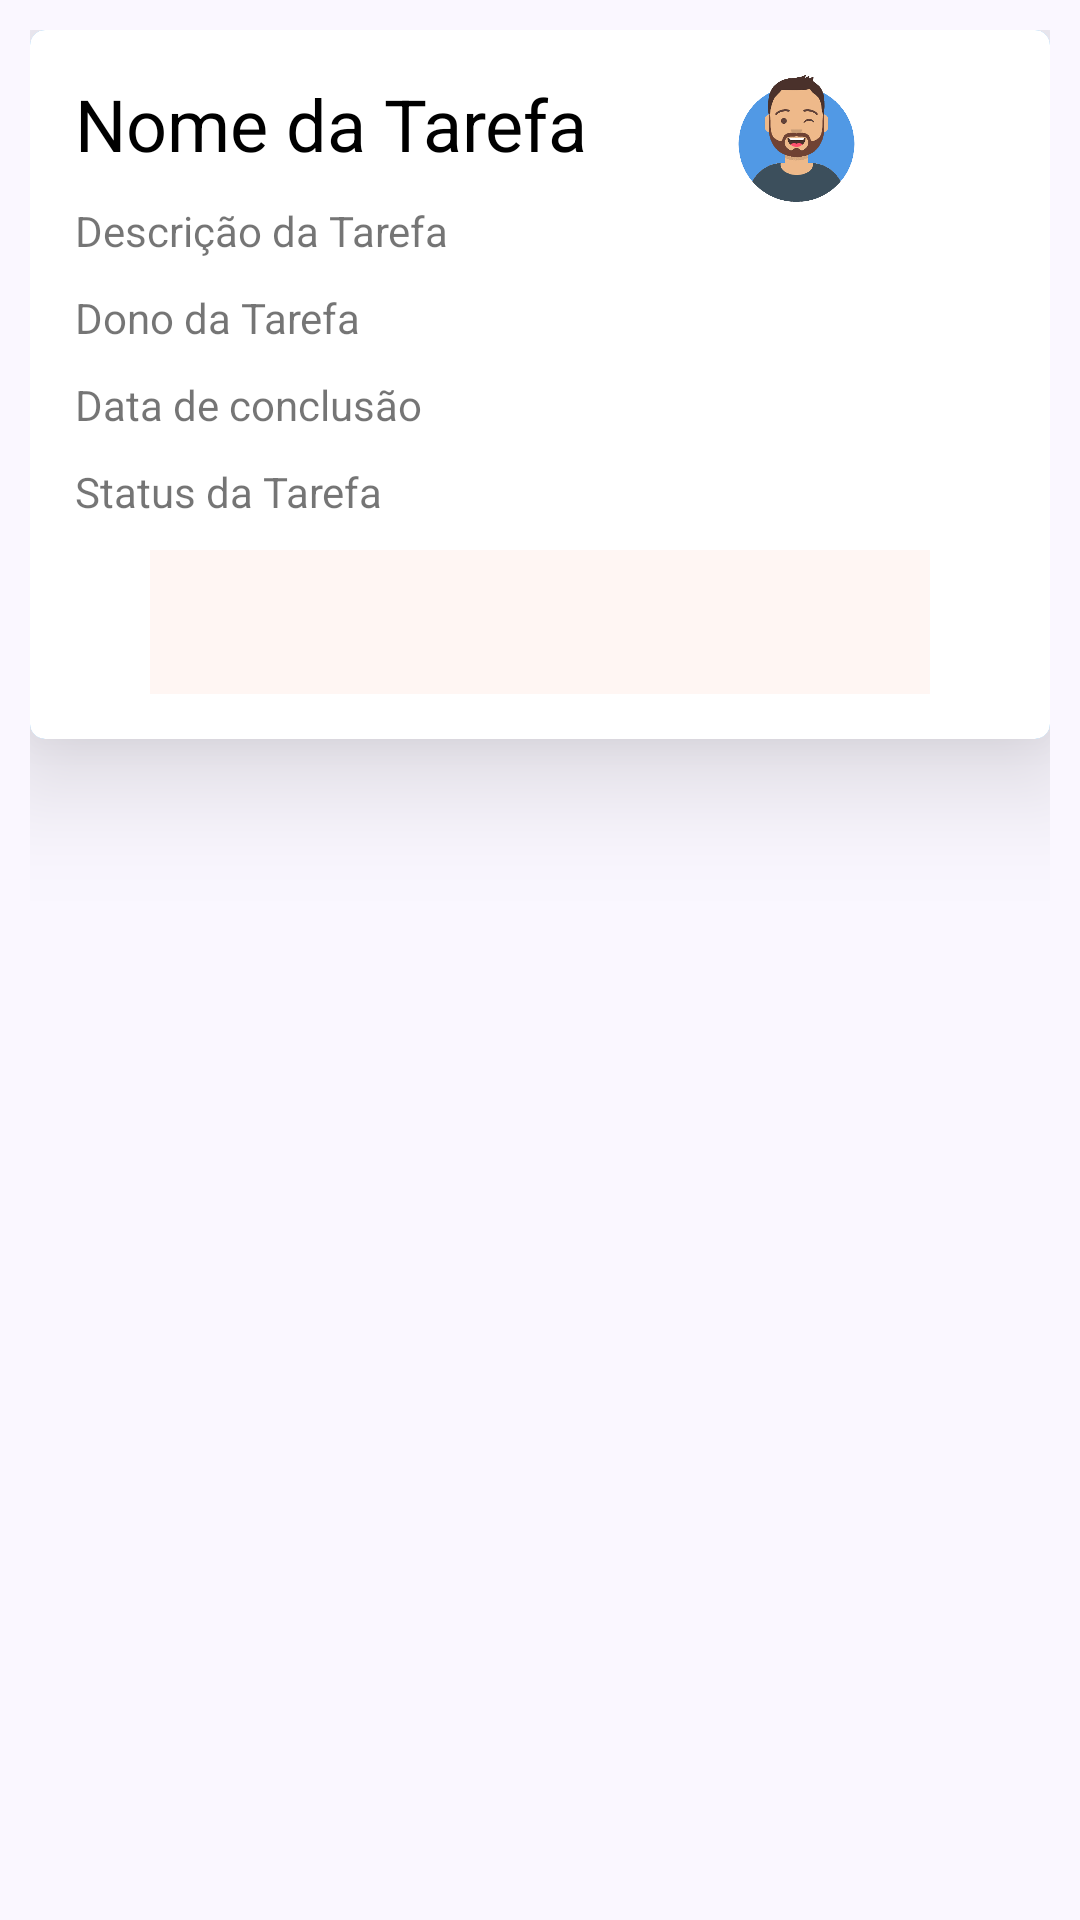

Icon bounding boxes for this 1080w x 1920h phone screenshot, format (x1, y1, x2, y2):
perfilimagem: (738, 75, 855, 202)
